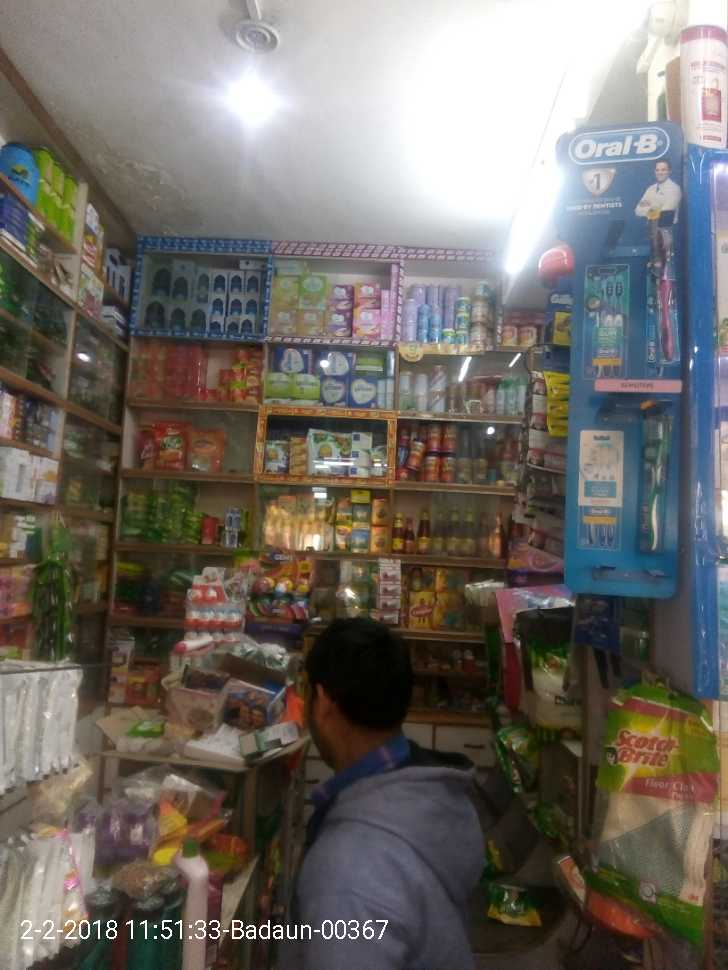oralb: (650, 210, 679, 367), (640, 408, 664, 554)
